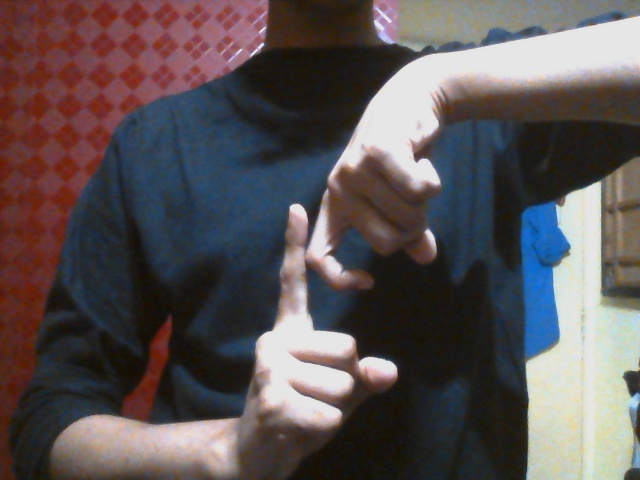K: (241, 123, 438, 471)
